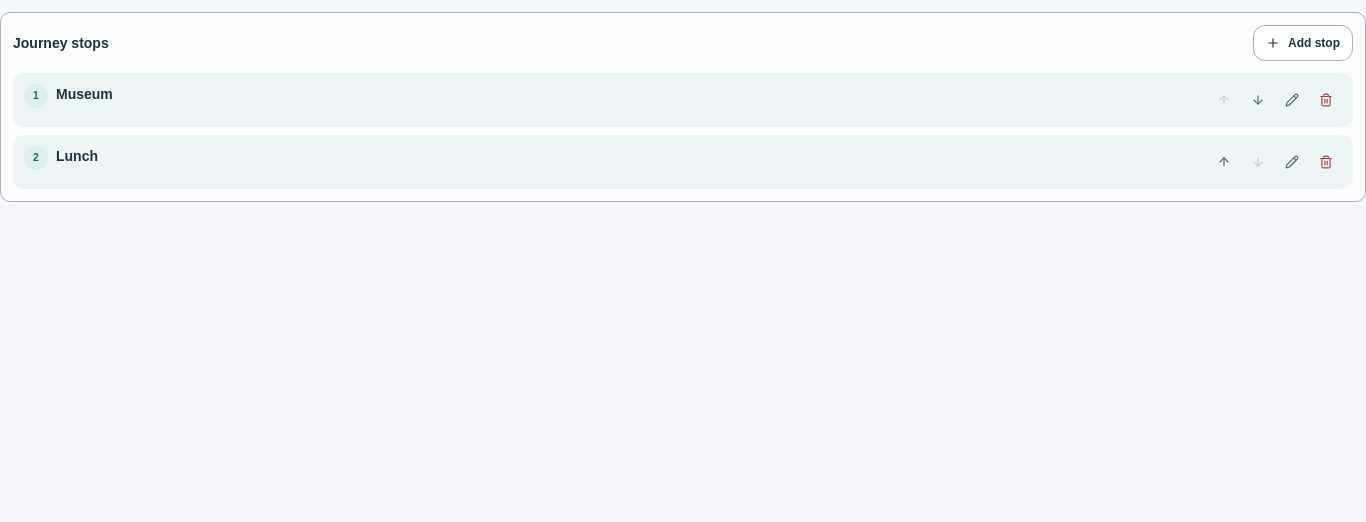
CabStopsManager › keeps explicit stop ordering controls
Expected: the text "Lunch" is shown, x1=56 y1=148 x2=98 y2=164
Step 1. Click the button named "Move Lunch earlier" → click(1224, 162), box x1=1208 y1=146 x2=1240 y2=178
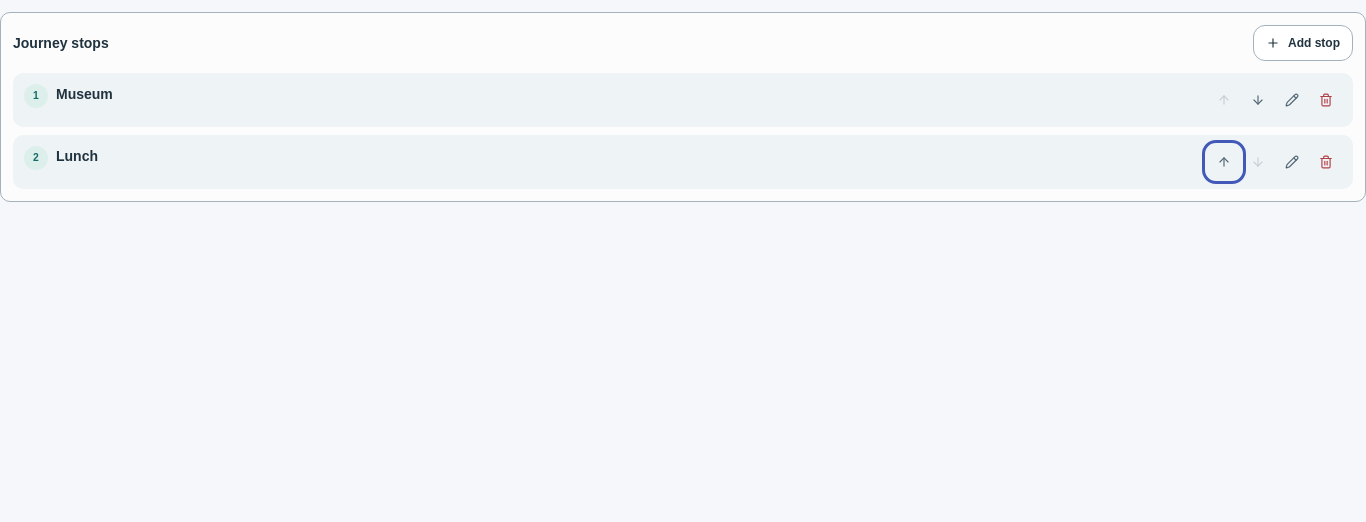
Step 2. Click the button named "Edit Lunch" → click(1292, 162), box x1=1276 y1=146 x2=1308 y2=178
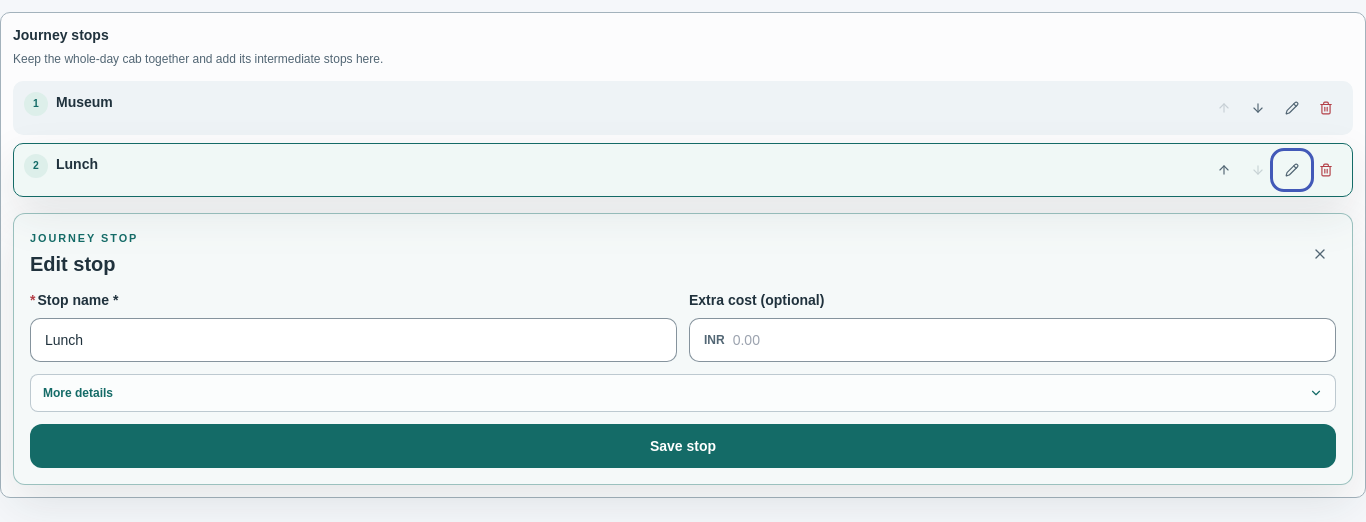
Now the form named "Edit cab stop" is shown, box x1=13 y1=213 x2=1353 y2=485
